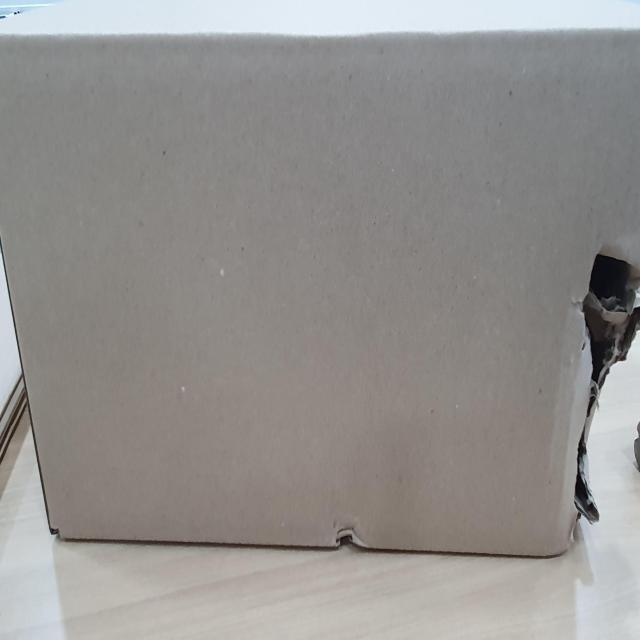damaged: (567, 239, 640, 541)
